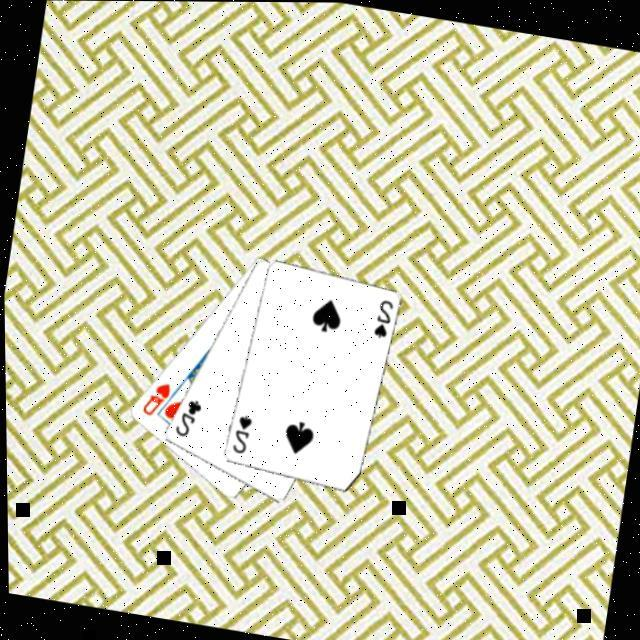2C: (170, 396, 207, 444)
2S: (369, 296, 398, 343), (228, 411, 256, 459)
QH: (138, 378, 175, 422)
